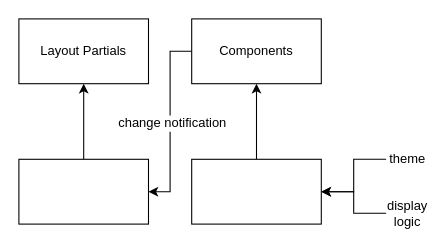
Image size: 448x247. Some labels were removed from this diagram. Here are the shapes that lost their labels. From the top down, the centre of each, then its label:
At (x=83, y=191): "Layout Context".
At (x=256, y=191): "Context".
